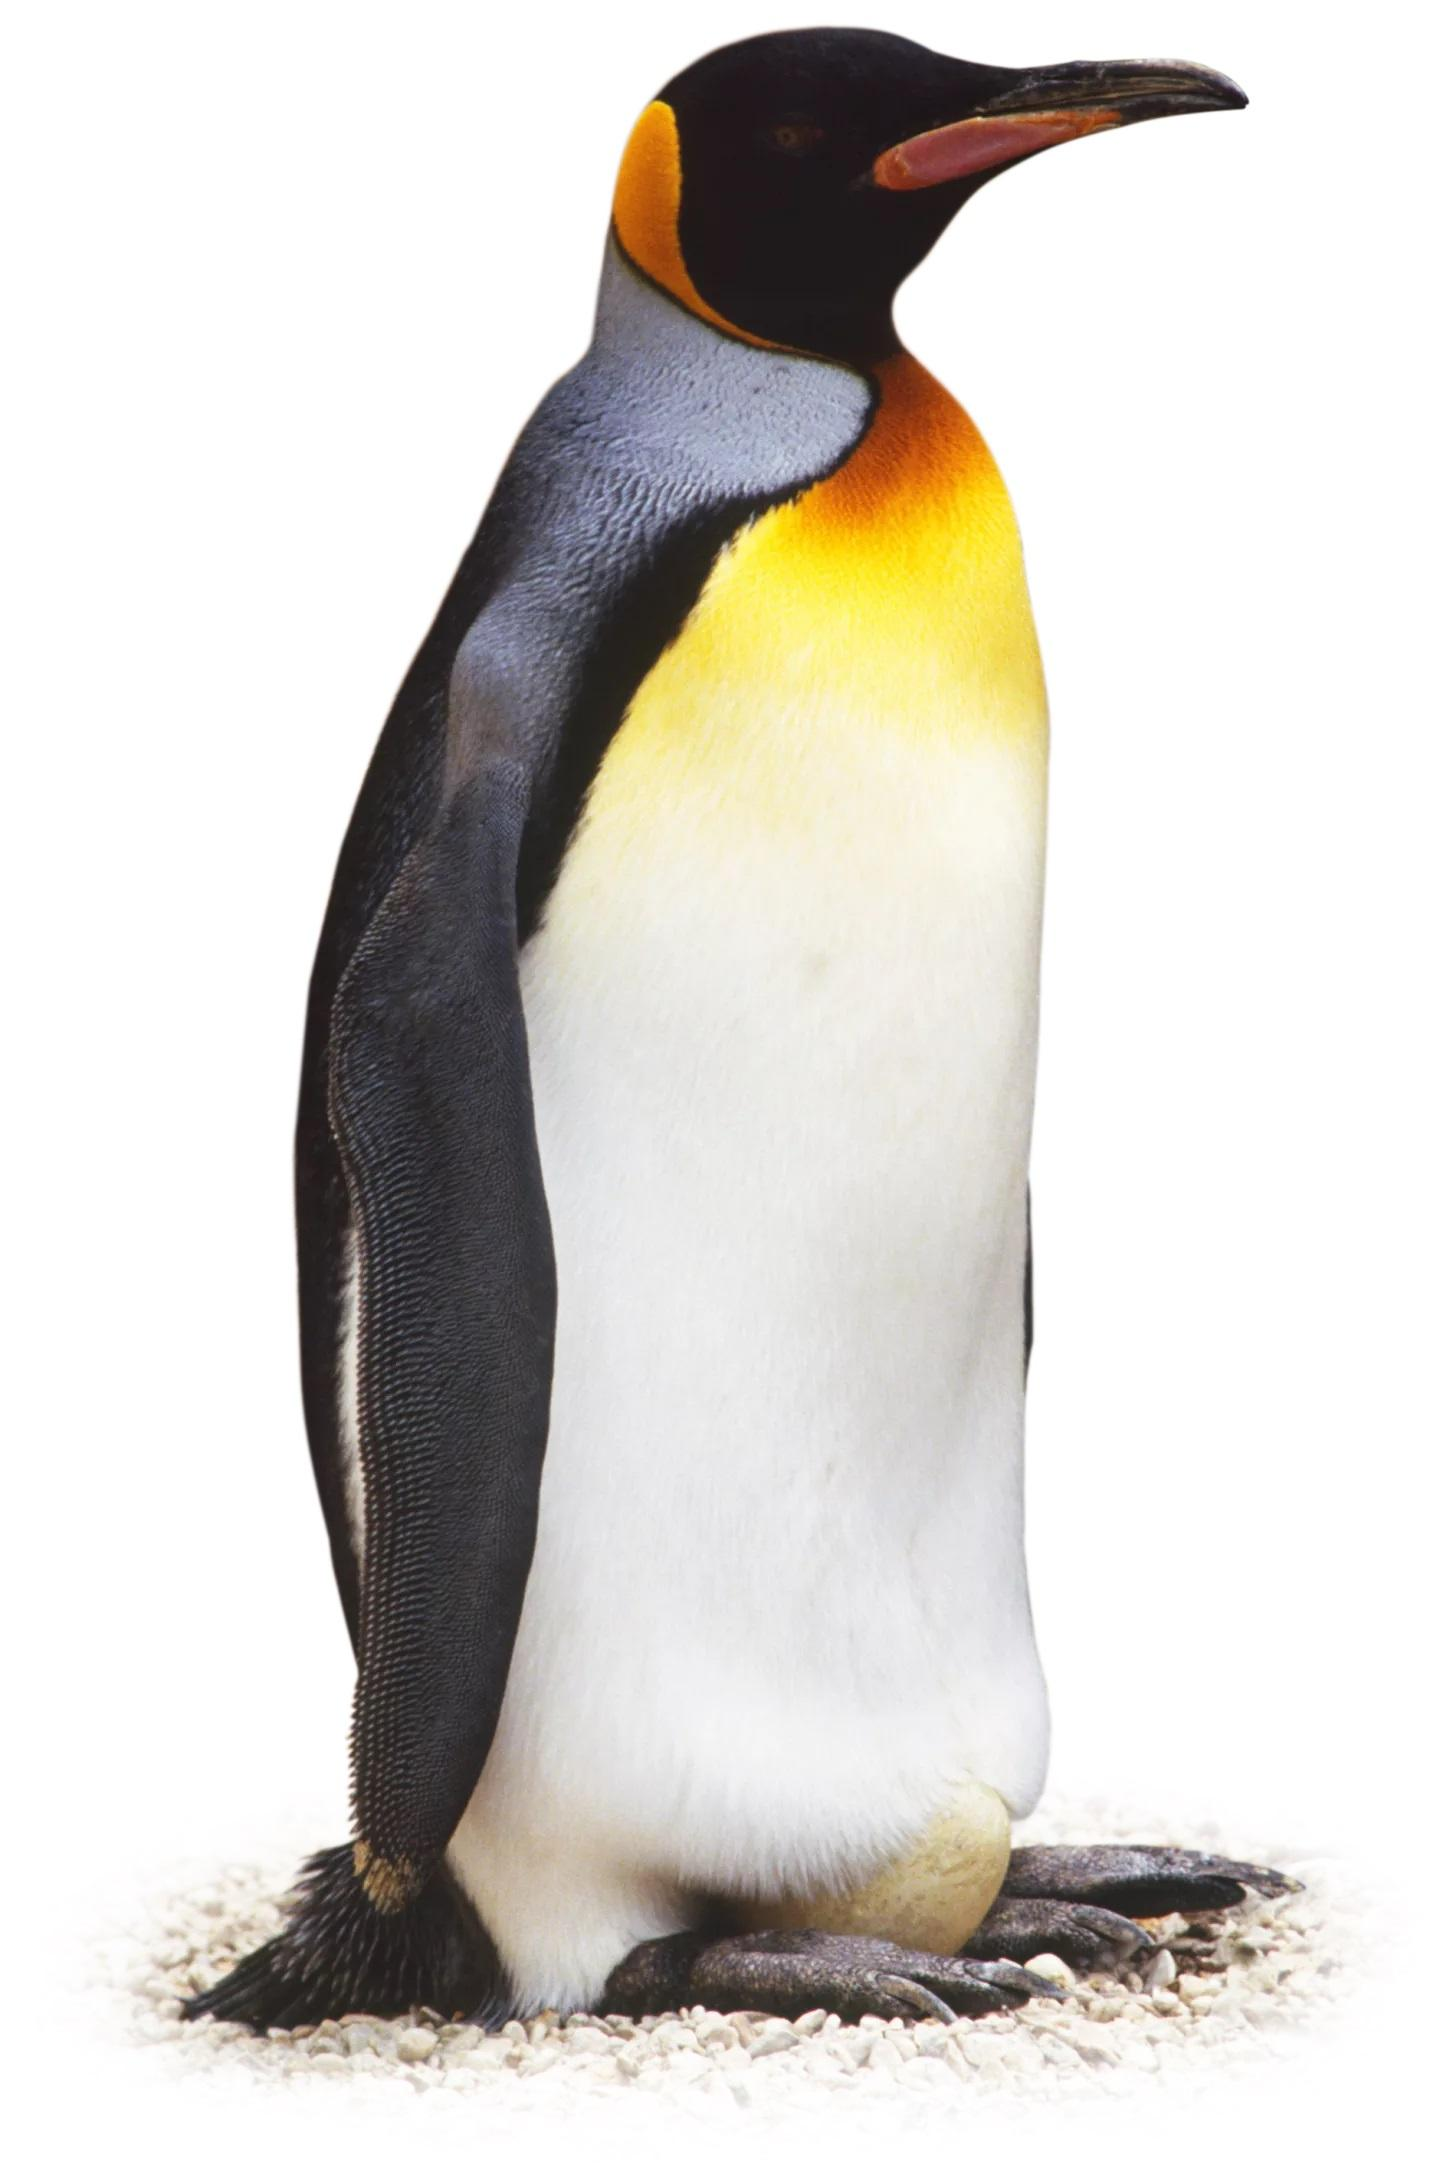king: (222, 19, 1263, 2168)
